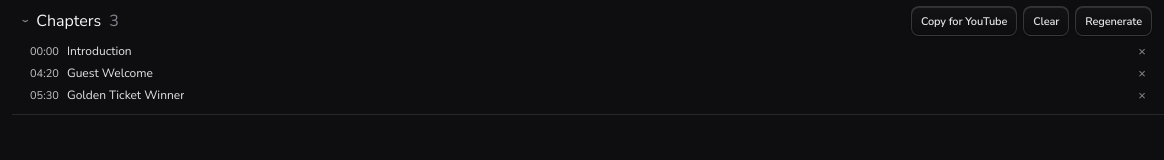
Test: Stop reaches a run that has not started streaming yet › never starts the stream when Stop is pressed during the model load
Click the button "Regenerate" at (1114, 21), box x1=1075 y1=6 x2=1152 y2=36
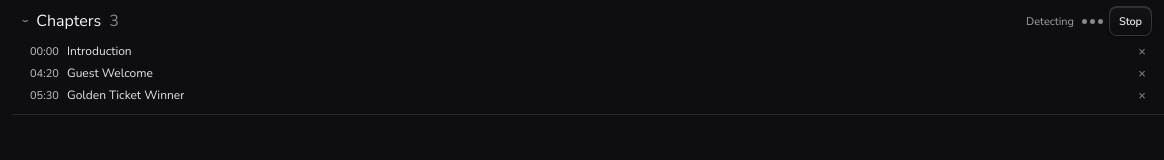
Note: The load is in flight. This is the window the button was built for.
Click the button "Stop" at (1130, 21), box x1=1109 y1=6 x2=1152 y2=36
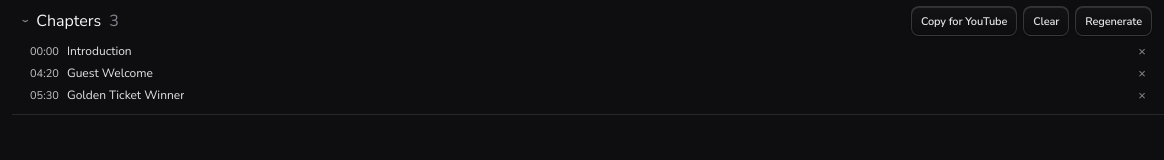
Now the button "Stop" is gone
